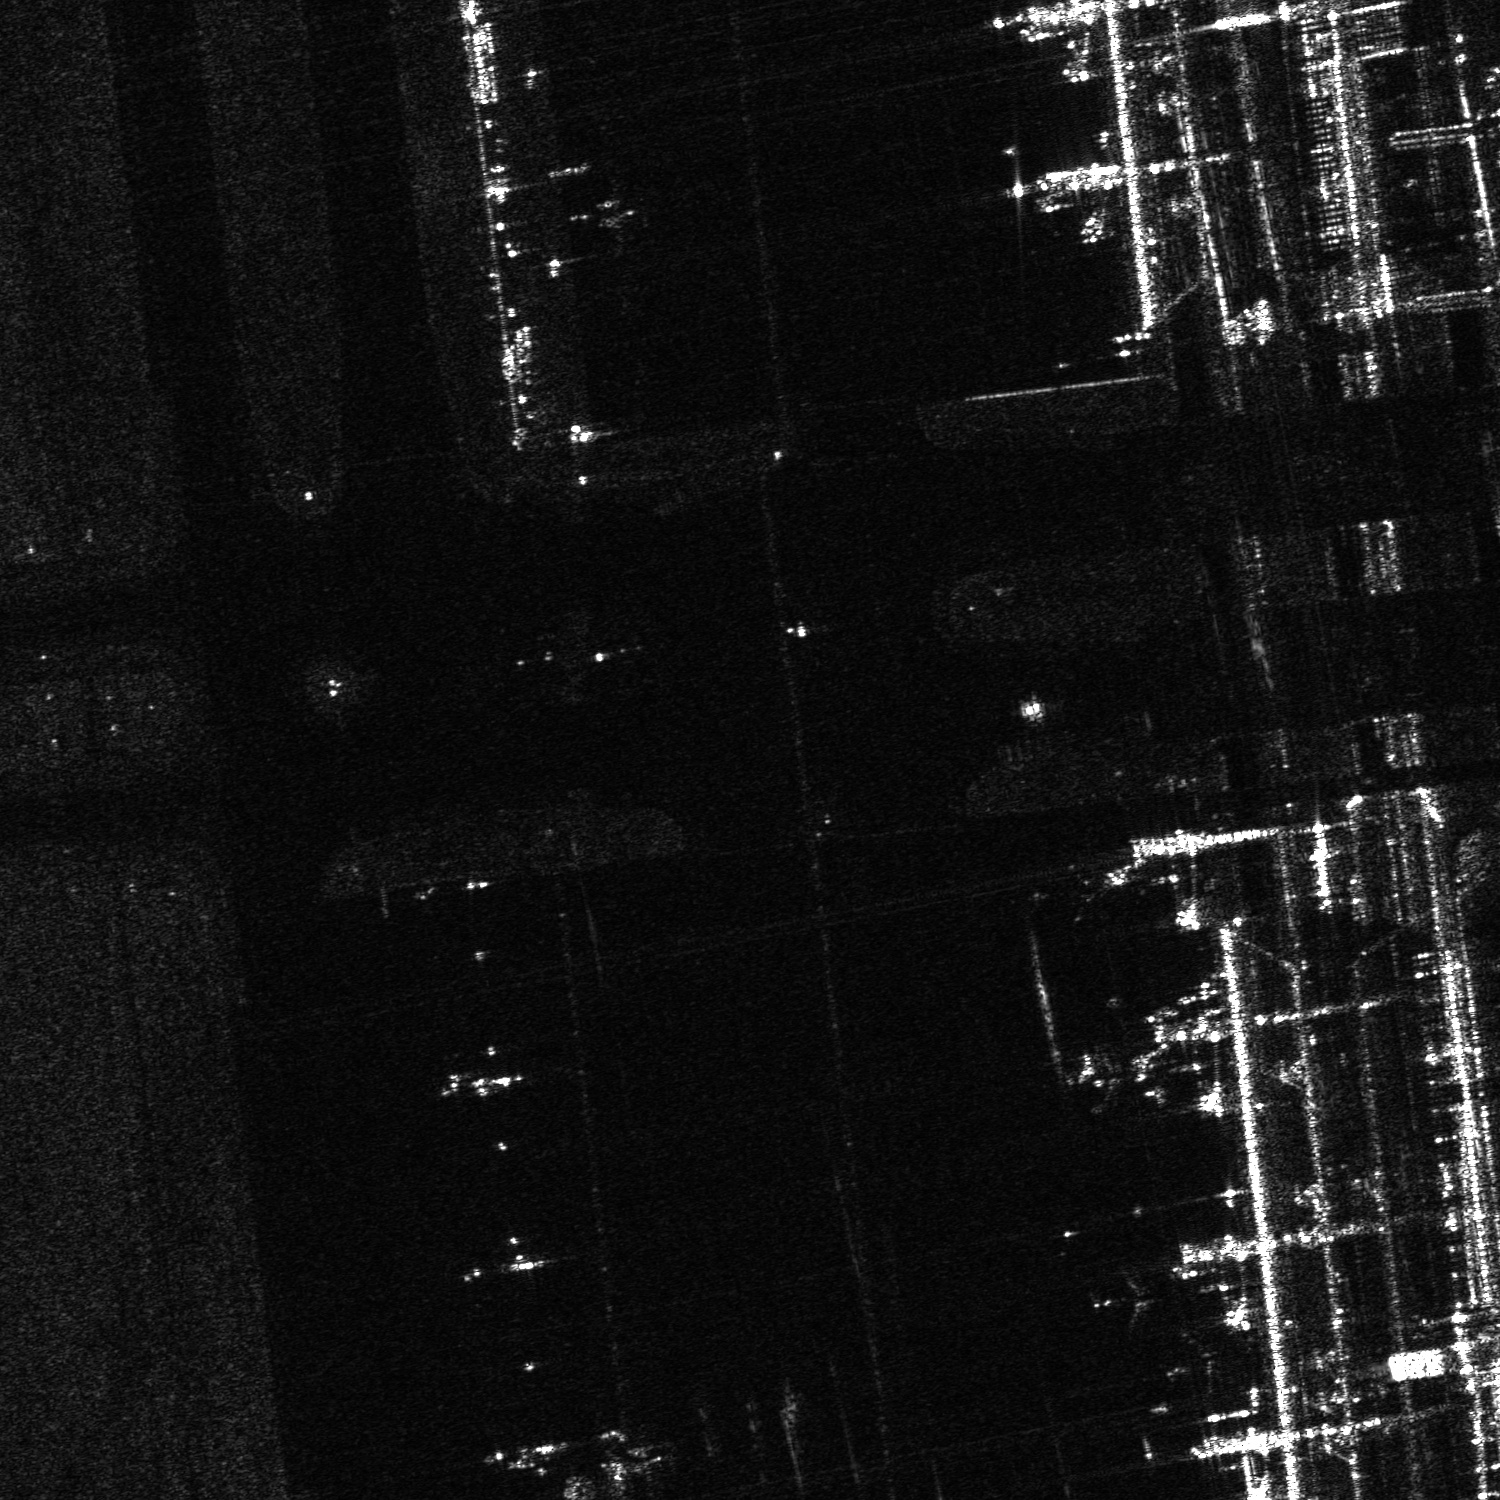Boeing787: (1093, 1268, 1165, 1337), (1161, 1330, 1229, 1396)
